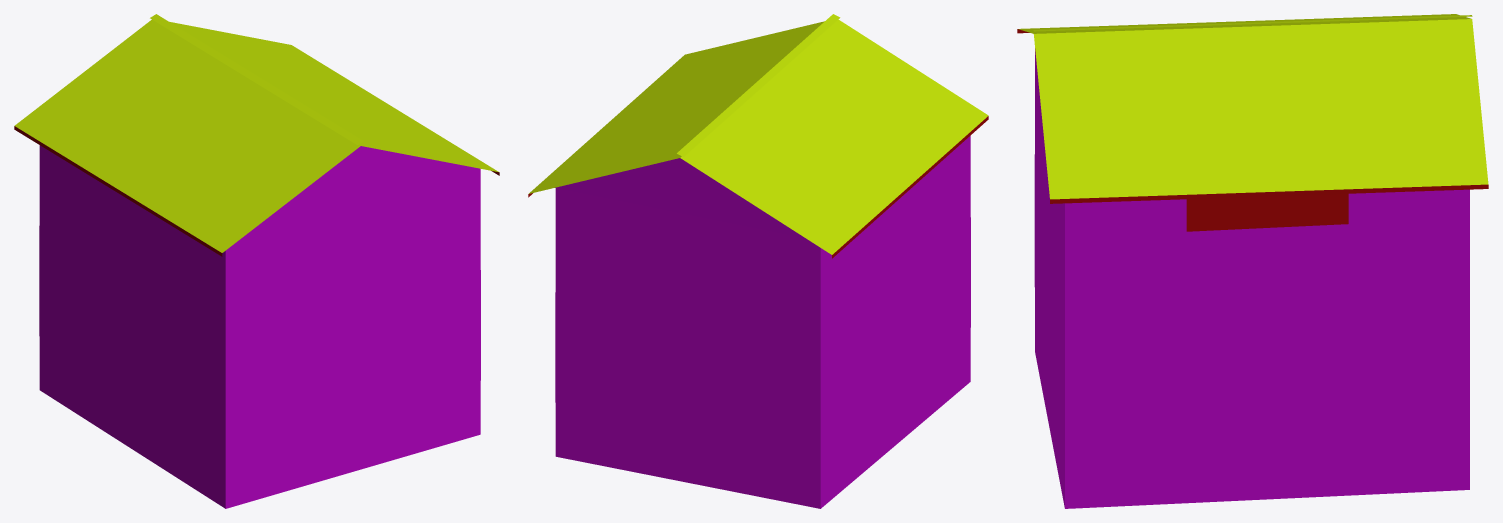
Rendered from niv_70.glb.
The picture shows the model from 3 angles, left to right: view 1: azimuth 30°, elevation 25°; view 2: azimuth 150°, elevation 25°; view 3: azimuth 270°, elevation 25°; orthographic projection. The views are drawn at different scales.
Visible parts, largest first — view 1: niv_70; view 2: niv_70; view 3: niv_70.
Boxes of the visible parts, bbox=[...] form: niv_70: bbox=[14, 14, 499, 508]; niv_70: bbox=[528, 14, 988, 508]; niv_70: bbox=[1017, 14, 1488, 508].
Bounding box in the file's own units: 10.78 × 10.88 × 11.56.
